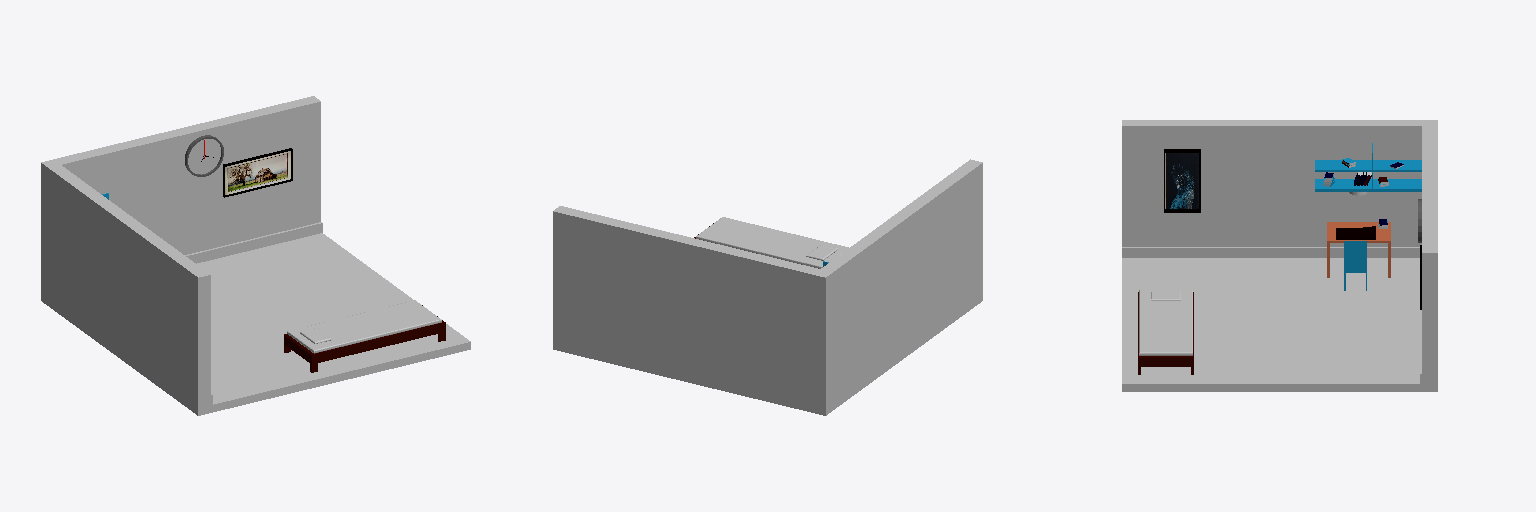
3 views of the same model, side by side, from view 1: azimuth 30°, elevation 25°; view 2: azimuth 150°, elevation 25°; view 3: azimuth 270°, elevation 25° (orthographic).
Visible parts, largest first — view 1: room_Cube.005, Circle.016_Circle.006; view 2: room_Cube.005; view 3: room_Cube.005, room.001_Cube.001.
Boxes of the visible parts, x1=… form: room_Cube.005: x1=41, y1=96, x2=470, y2=415; Circle.016_Circle.006: x1=185, y1=135, x2=223, y2=176; room_Cube.005: x1=553, y1=159, x2=982, y2=415; room_Cube.005: x1=1122, y1=120, x2=1437, y2=391; room.001_Cube.001: x1=1344, y1=241, x2=1366, y2=290.
Bounding box in the file's own units: 16 × 7.75 × 16.
15 materials, 2 textured.